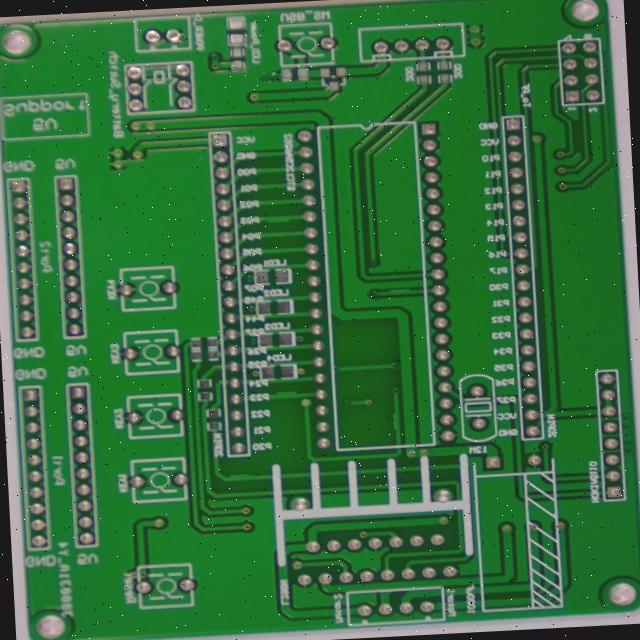spur: (442, 439, 464, 469), (304, 224, 337, 243), (445, 304, 479, 322), (260, 505, 292, 524), (314, 418, 342, 434)
